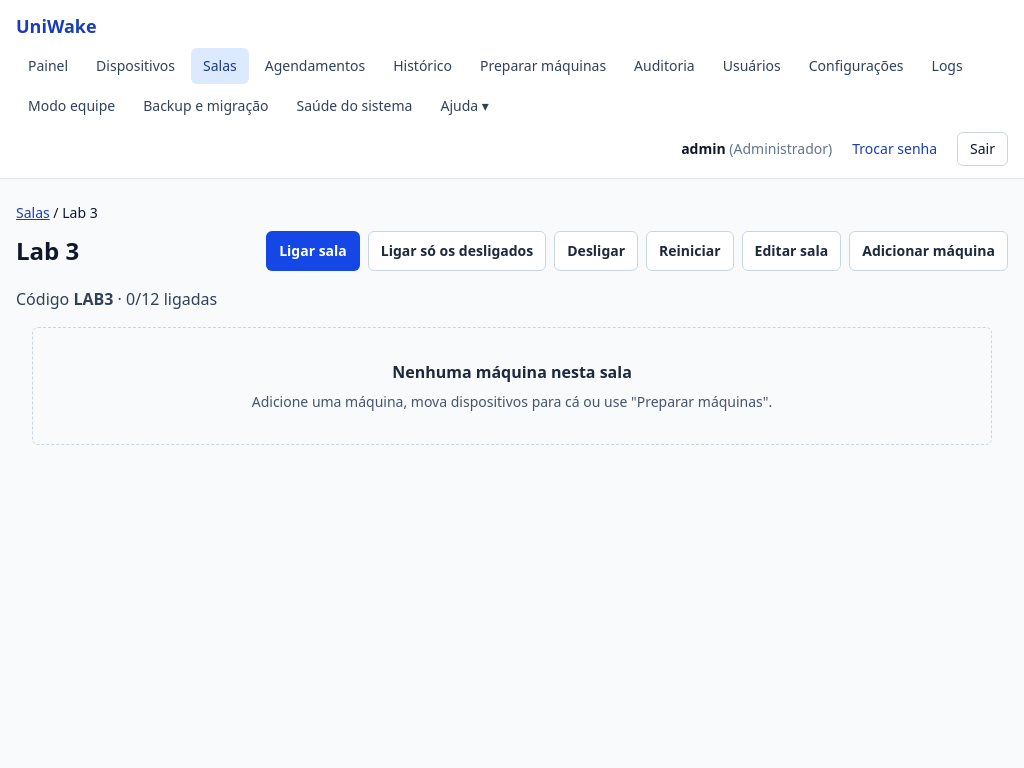
manual shutdown (FR-305) › "5 min com adiamento" asks the preview again and shows the schedules' policy
This screenshot has width=1024, height=768.
What coordinates should you click on to do the following:
click the button "Reiniciar"
I would click on:
 (690, 251)
Its box is [646, 231, 734, 271].
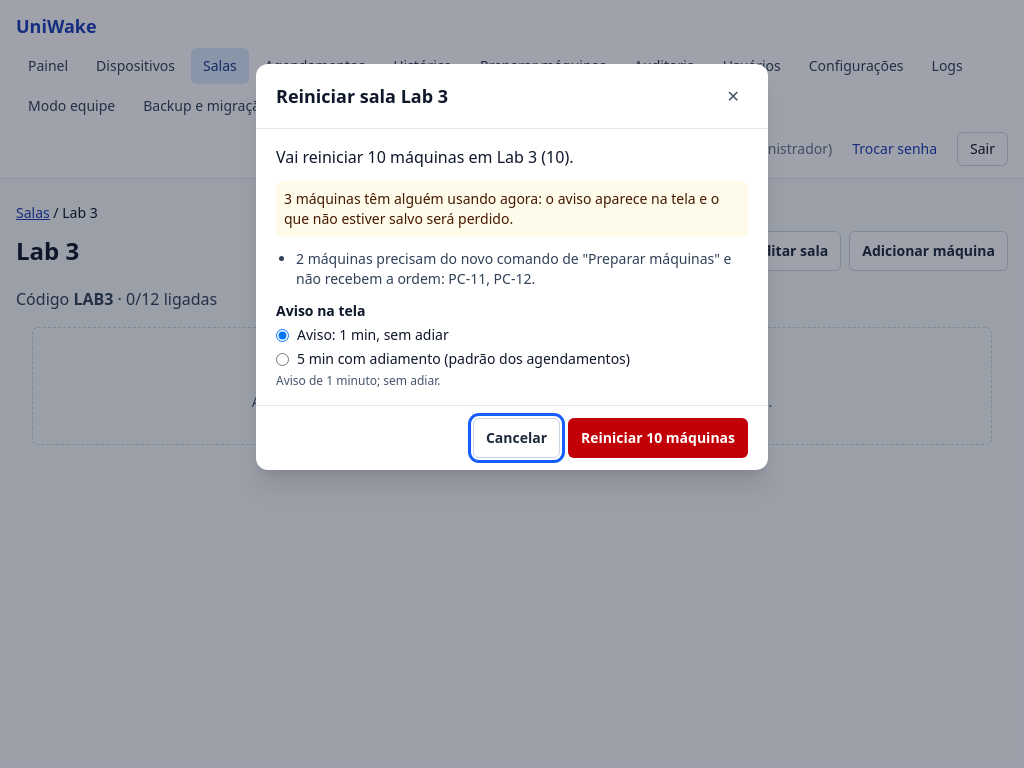
What coordinates should you click on to do the following:
click the radio button labelled "5 min com adiamento (padrão dos agendamentos)"
I would click on:
 (282, 359)
Its box is [276, 352, 289, 366].
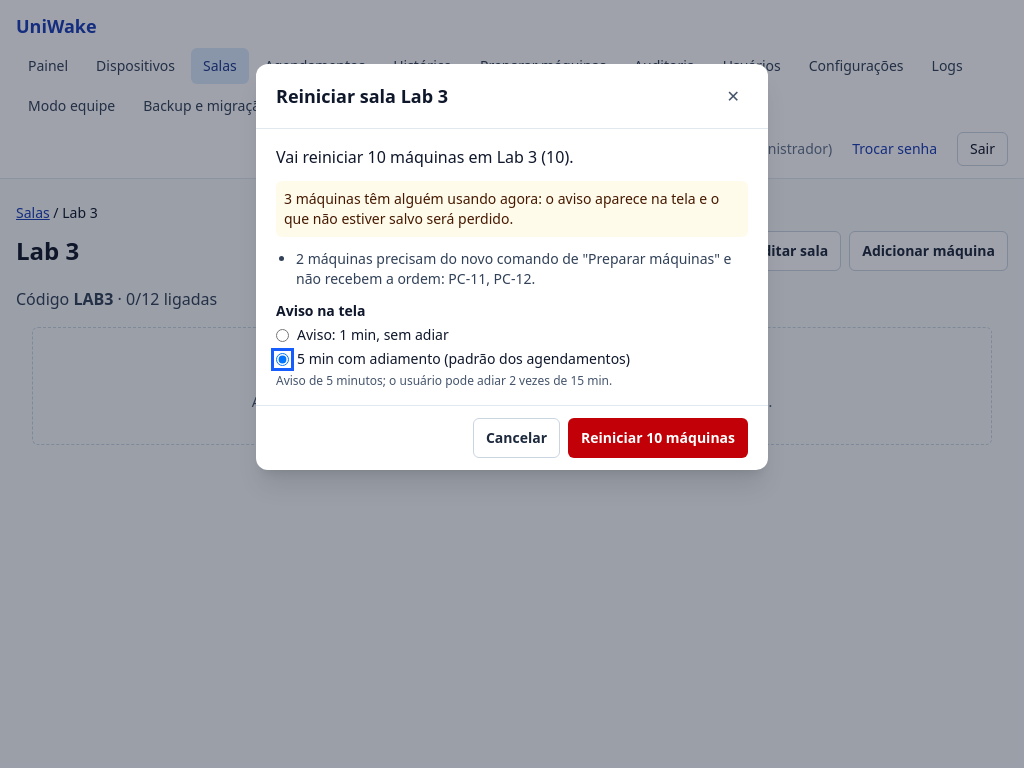
Expected: the text "Aviso de 5 minutos; o usuário pode adiar 2 vezes de 15 min." is shown, [276, 372, 612, 389]
